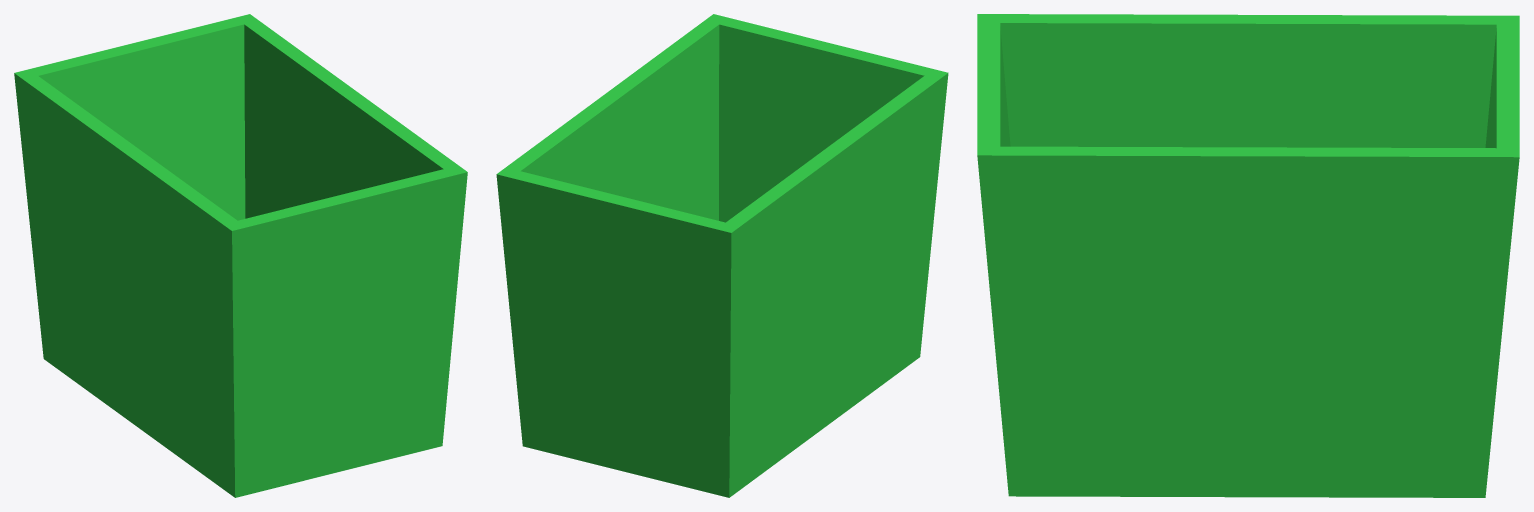
File: Caja.fbx
3 views of the same model, side by side, from view 1: azimuth 30°, elevation 25°; view 2: azimuth 150°, elevation 25°; view 3: azimuth 270°, elevation 25° (orthographic). The views are drawn at different scales.
Parts seen in each view (by area): view 1: Caja; view 2: Caja; view 3: Caja.
Boxes of the visible parts, x1=… form: Caja: x1=14, y1=14, x2=467, y2=497; Caja: x1=496, y1=14, x2=948, y2=497; Caja: x1=977, y1=14, x2=1519, y2=497.
Bounding box in the file's own units: 25 × 28.63 × 40.
